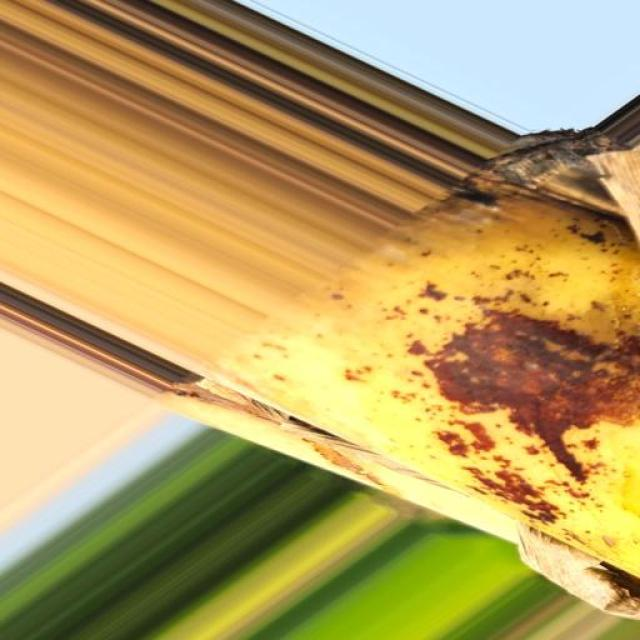Anthracnose: (175, 140, 640, 617)
